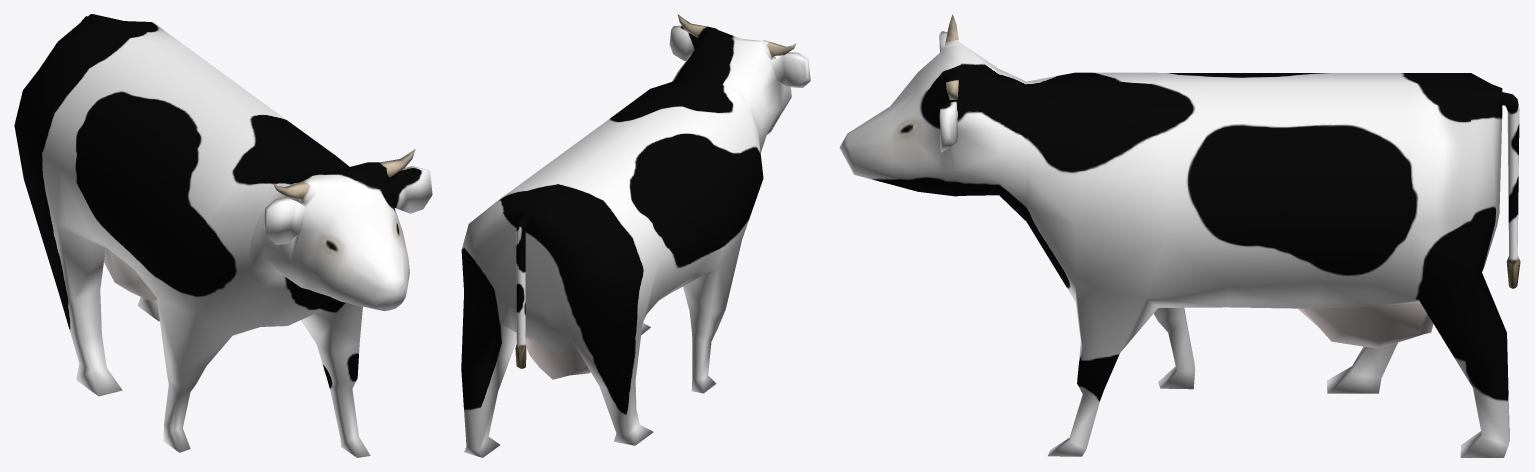
File: cow.dae
The picture shows the model from 3 angles, left to right: view 1: azimuth 30°, elevation 25°; view 2: azimuth 150°, elevation 25°; view 3: azimuth 270°, elevation 25°; orthographic projection. The views are drawn at different scales.
Visible parts, largest first — view 1: Cilindro; view 2: Cilindro; view 3: Cilindro.
Boxes of the visible parts, box(x1,y1,x2,y2) form: Cilindro: box(14, 14, 432, 457); Cilindro: box(461, 14, 810, 457); Cilindro: box(839, 14, 1520, 457).
Size of the model in its own units: 2.68 by 7.66 by 4.56.
Materials: 1 (1 with a texture image).
